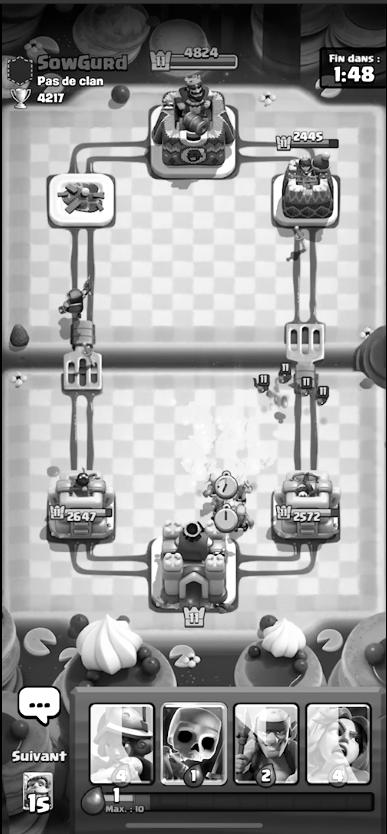bat: (313, 382, 330, 407), (297, 375, 315, 398), (276, 362, 293, 386), (252, 373, 272, 393)
gobelin: (237, 507, 251, 528), (236, 482, 252, 500)
mini_PEKKA: (61, 277, 93, 318)
